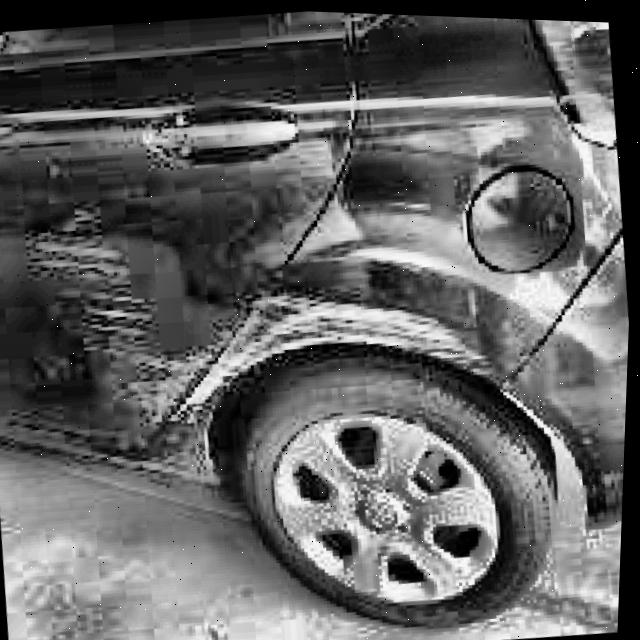door_scratch: (238, 256, 489, 374), (11, 215, 168, 355), (140, 342, 253, 413)
